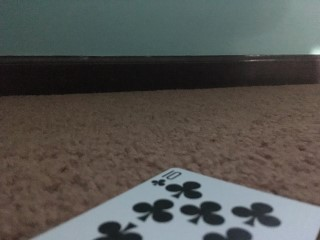TenOfClubs: (23, 167, 319, 240)
